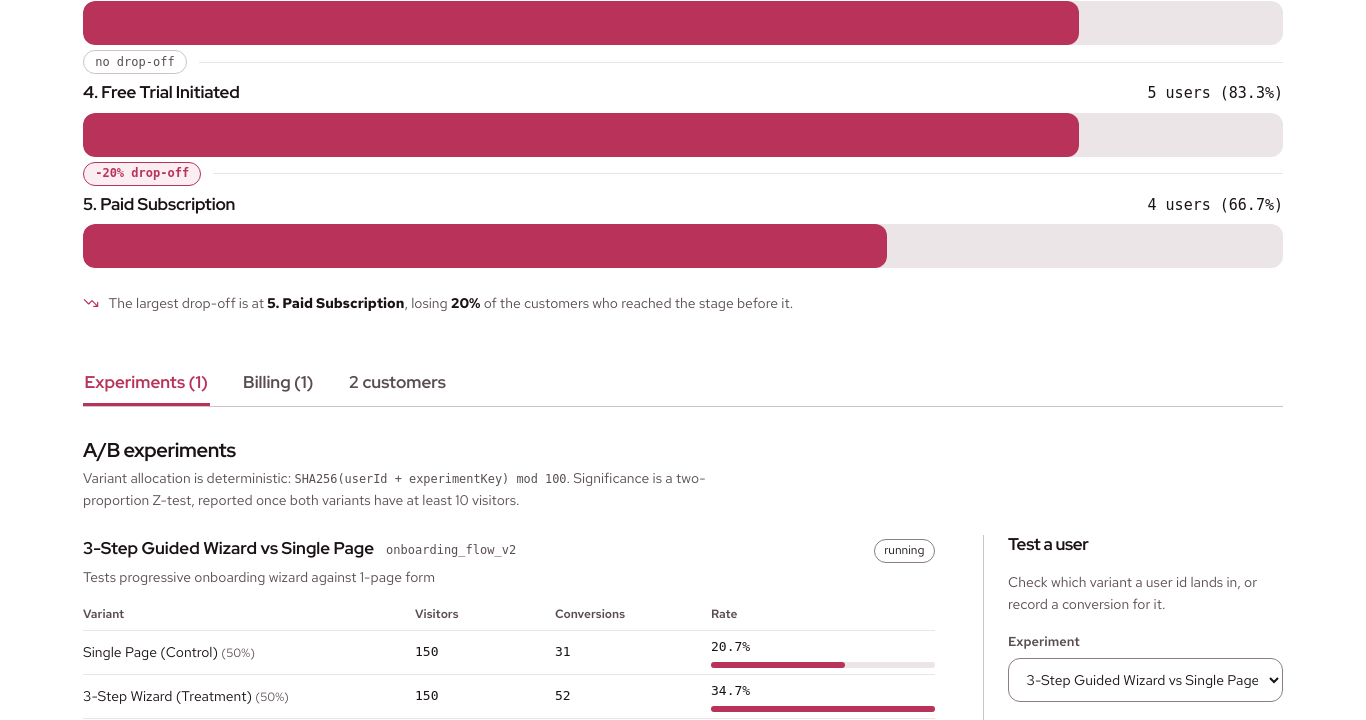
Test: Scrollable regions › billing and customers tables are keyboard reachable regions
(page scrolled)
Click the tab "Billing (1)".
click(278, 384)  # box [242,362,315,406]
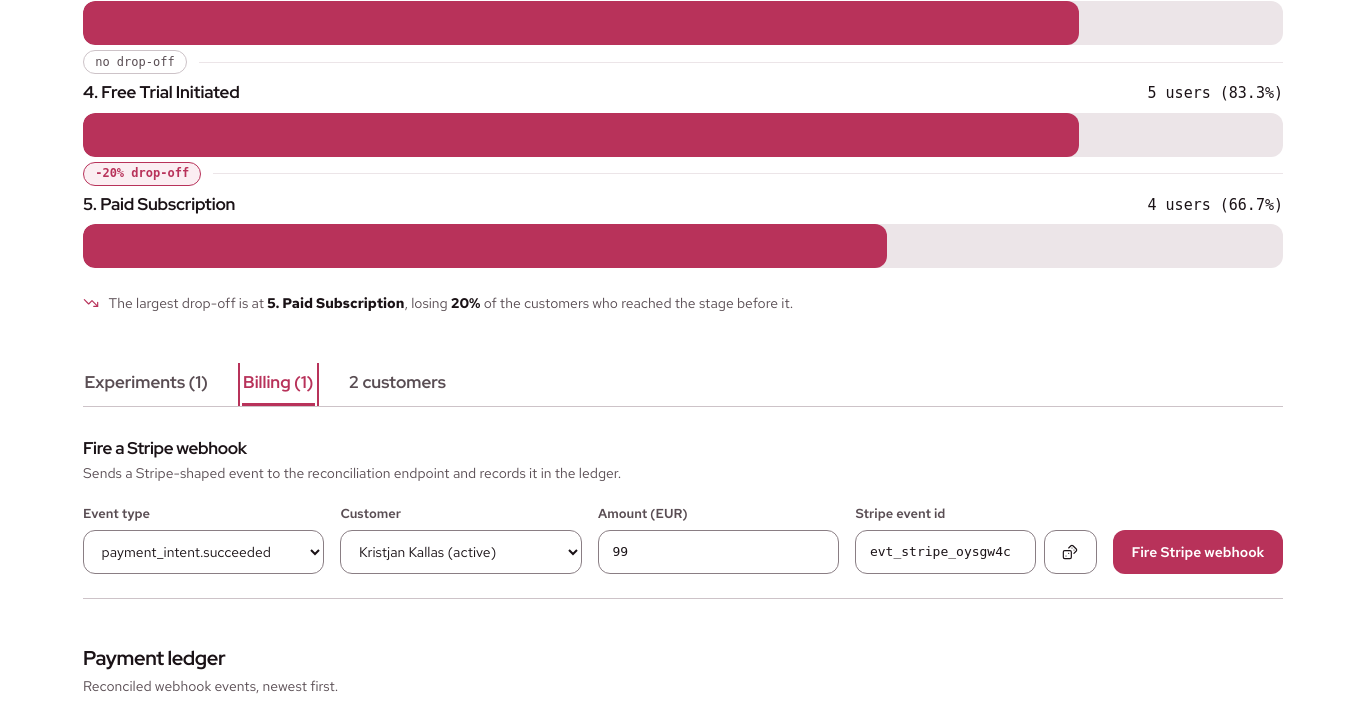
Check: the heading "Payment ledger" is shown, box [83,645,225,671]
Click the tab "2 customers".
click(397, 384)  # box [347,362,448,406]
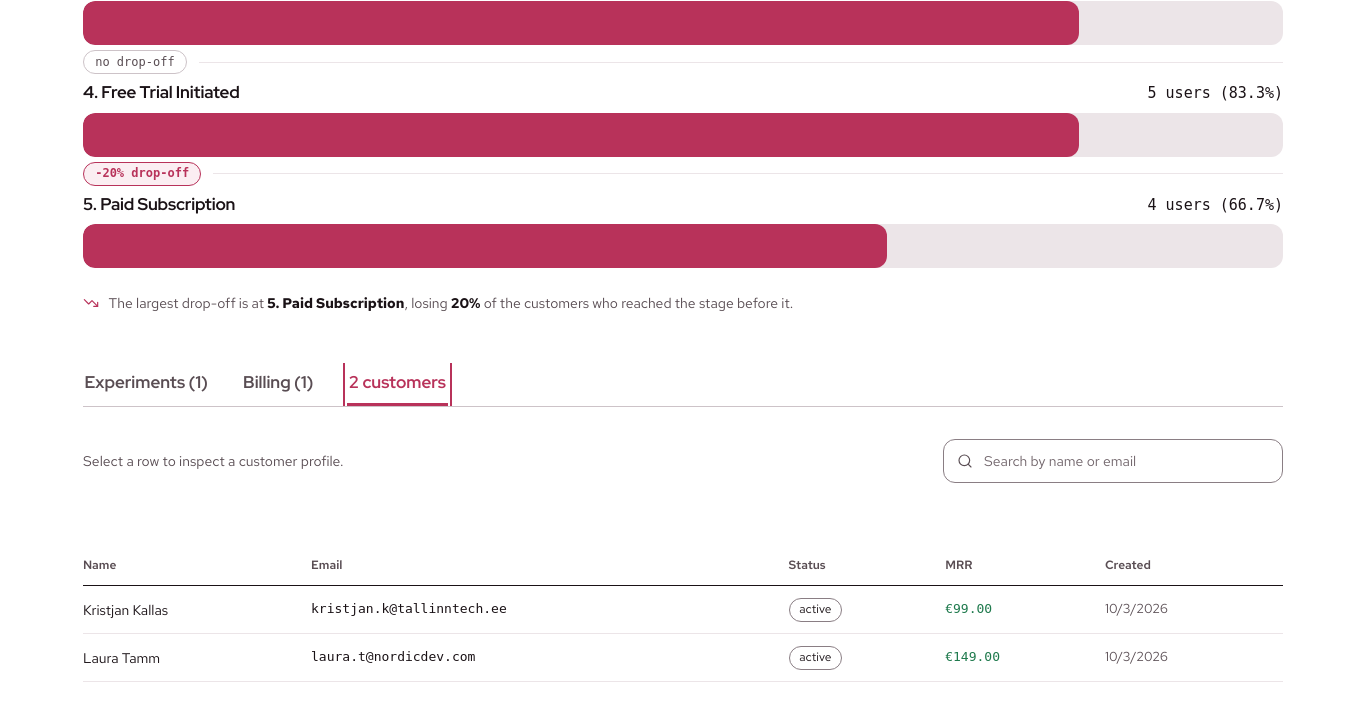
Check: the element with class "table-wrapper" is shown, box [83,547,1283,682]
Check: the text "Kristjan Kallas" is shown, box [83,586,311,634]
